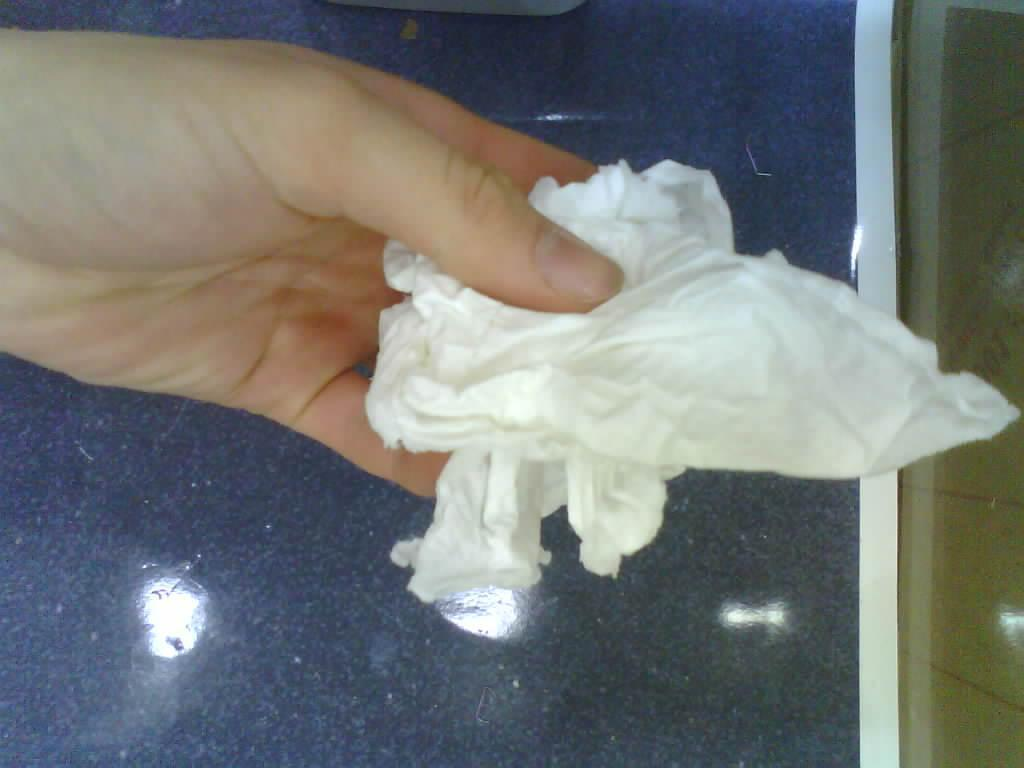paper: (366, 162, 1016, 602)
